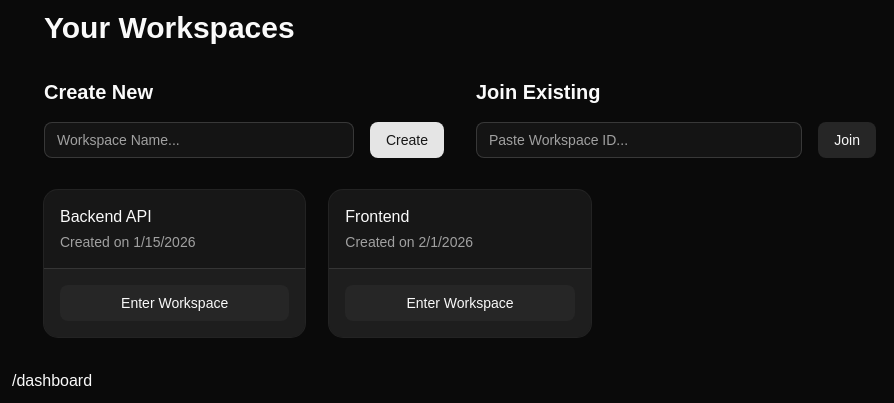
workspace creation › creates a workspace, adds it to the list and clears the input
Check: the text "Backend API" is shown, box [60,208,152,225]
In the field with placeholder "Workspace Name...": (199, 140) [44,122,354,158], type "ML Notebook"
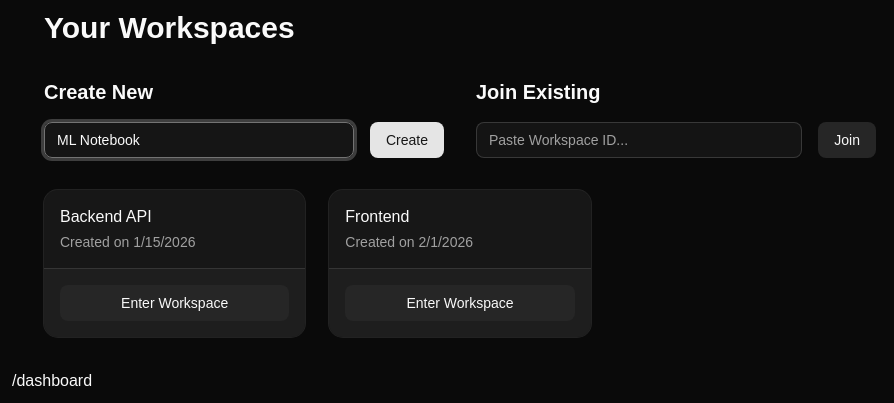
Click the button "Create": (407, 140) [370,122,444,158]
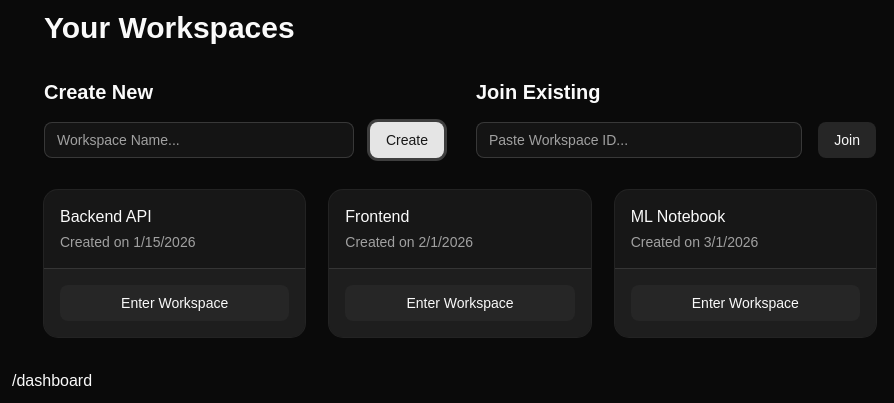
Check: the text "ML Notebook" is shown, box [631,208,725,225]
Check: the number of buttons "Enter Workspace" is 3, box [60,285,289,321]; [345,285,575,321]; [631,285,860,321]
